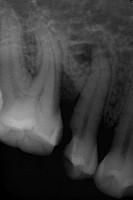Furcation Involvement: (70, 23, 114, 65)
